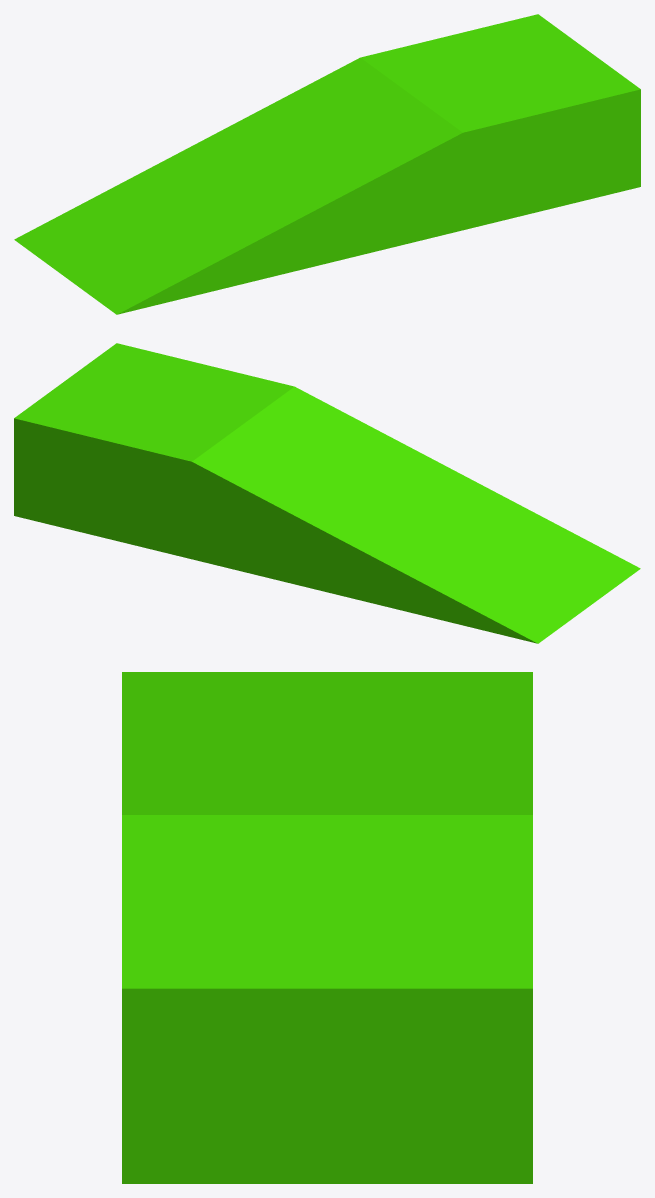
Rendered from Playergym68.fbx.
The picture shows the model from 3 angles, top to bottom: view 1: azimuth 30°, elevation 25°; view 2: azimuth 150°, elevation 25°; view 3: azimuth 270°, elevation 25°; orthographic projection. The views are drawn at different scales.
Visible parts, largest first — view 1: SM_PLayerGym.012; view 2: SM_PLayerGym.012; view 3: SM_PLayerGym.012.
Boxes of the visible parts, x1,y1,x2,y2 form: SM_PLayerGym.012: (14, 14, 640, 314); SM_PLayerGym.012: (14, 343, 640, 643); SM_PLayerGym.012: (122, 672, 532, 1183).
Bounding box in the file's own units: 589 × 105 × 200.
